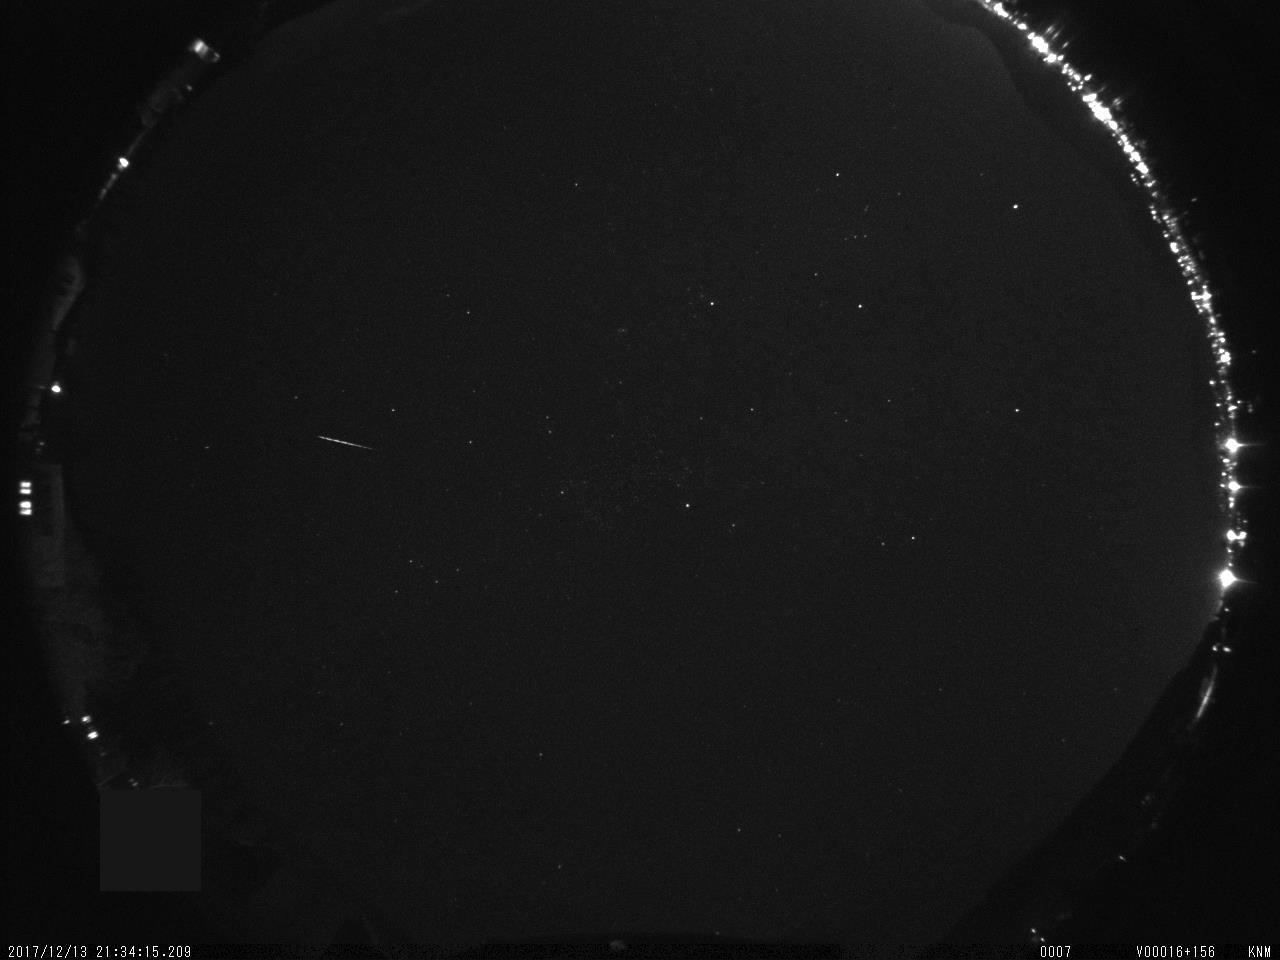Meteor: (313, 431, 376, 454)
